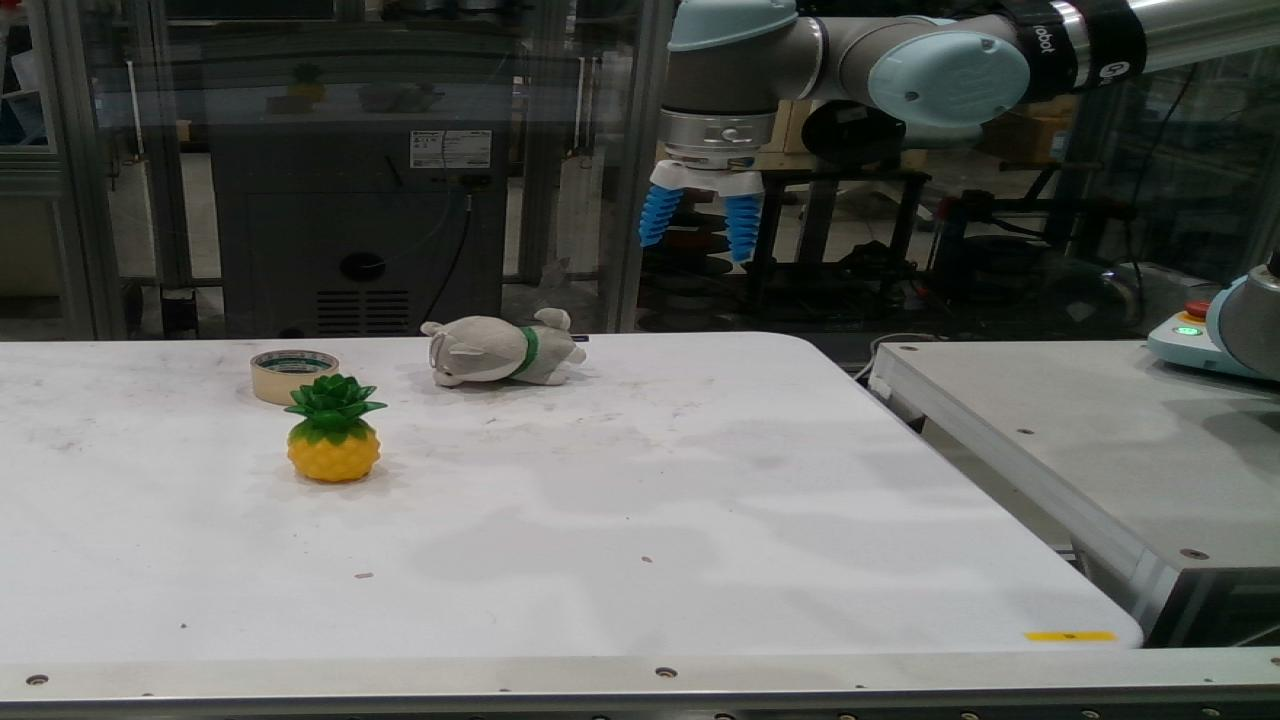UR5: (649, 0, 1279, 198), (1204, 238, 1279, 381)
gripper_left: (639, 185, 682, 245)
gripper_right: (724, 194, 760, 262)
target: (421, 308, 587, 388), (283, 373, 390, 482), (250, 349, 340, 405)
